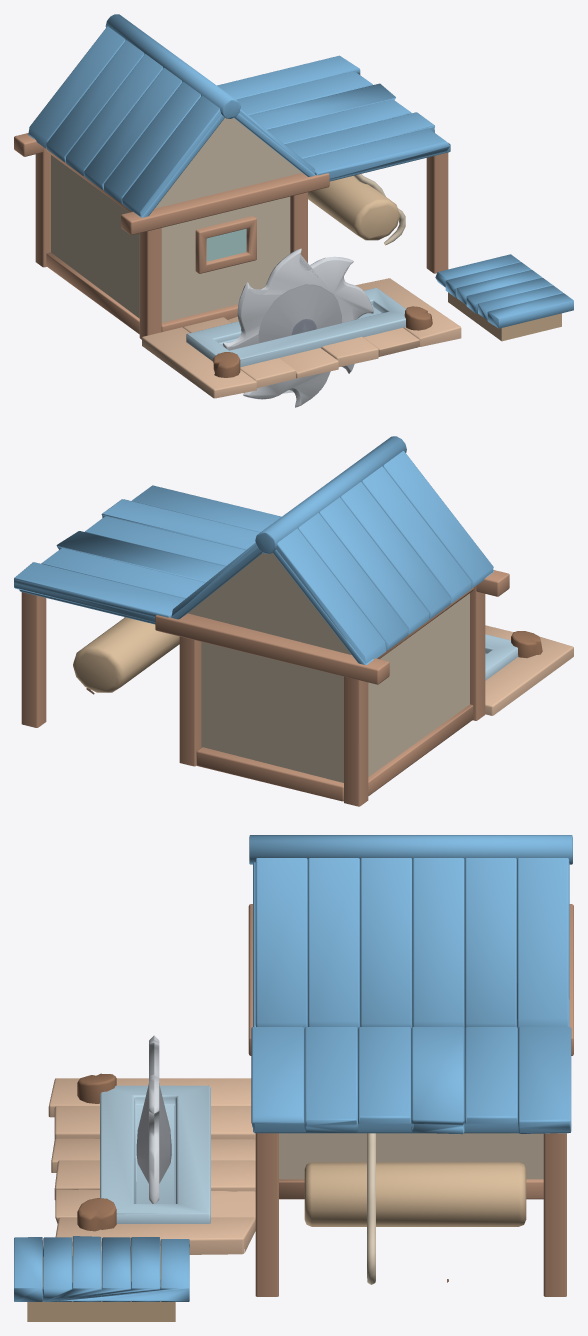
File: SawMill.fbx
The picture shows the model from 3 angles, top to bottom: view 1: azimuth 30°, elevation 25°; view 2: azimuth 150°, elevation 25°; view 3: azimuth 270°, elevation 25°; orthographic projection. The views are drawn at different scales.
Visible parts, largest first — view 1: Roof, Walls, Beams, Planks, SawCircle, Table, SawTable, Log, TableBOttom, Stump, Glass; view 2: Roof, Walls, Beams, Log, Planks, SawTable, Stump; view 3: Roof, Planks, Log, SawTable, Table, Beams, Walls, SawCircle, TableBOttom, Stump, Rope.
Boxes of the visible parts, x1,y1,x2,y2 form: Roof: [27, 14, 450, 217]; Walls: [51, 117, 301, 322]; Beams: [14, 133, 448, 339]; Planks: [142, 278, 461, 398]; SawCircle: [223, 248, 373, 407]; Table: [435, 254, 573, 328]; SawTable: [186, 288, 405, 367]; Log: [308, 176, 399, 240]; TableBOttom: [448, 292, 561, 341]; Stump: [213, 306, 432, 377]; Glass: [206, 228, 246, 261]; Roof: [14, 436, 493, 664]; Walls: [188, 553, 469, 782]; Beams: [21, 570, 509, 806]; Log: [73, 617, 179, 692]; Planks: [485, 625, 573, 715]; SawTable: [485, 634, 518, 680]; Stump: [511, 631, 542, 658]; Roof: [249, 835, 572, 1134]; Planks: [48, 1078, 255, 1254]; Log: [304, 1162, 526, 1226]; SawTable: [100, 1085, 210, 1223]; Table: [14, 1236, 189, 1301]; Beams: [248, 904, 573, 1296]; Walls: [279, 1133, 543, 1179]; SawCircle: [136, 1035, 171, 1203]; TableBOttom: [27, 1246, 175, 1321]; Stump: [77, 1073, 116, 1231]; Rope: [367, 1133, 375, 1284].
Size of the model in its own units: 80.9 by 62.59 by 79.28.
